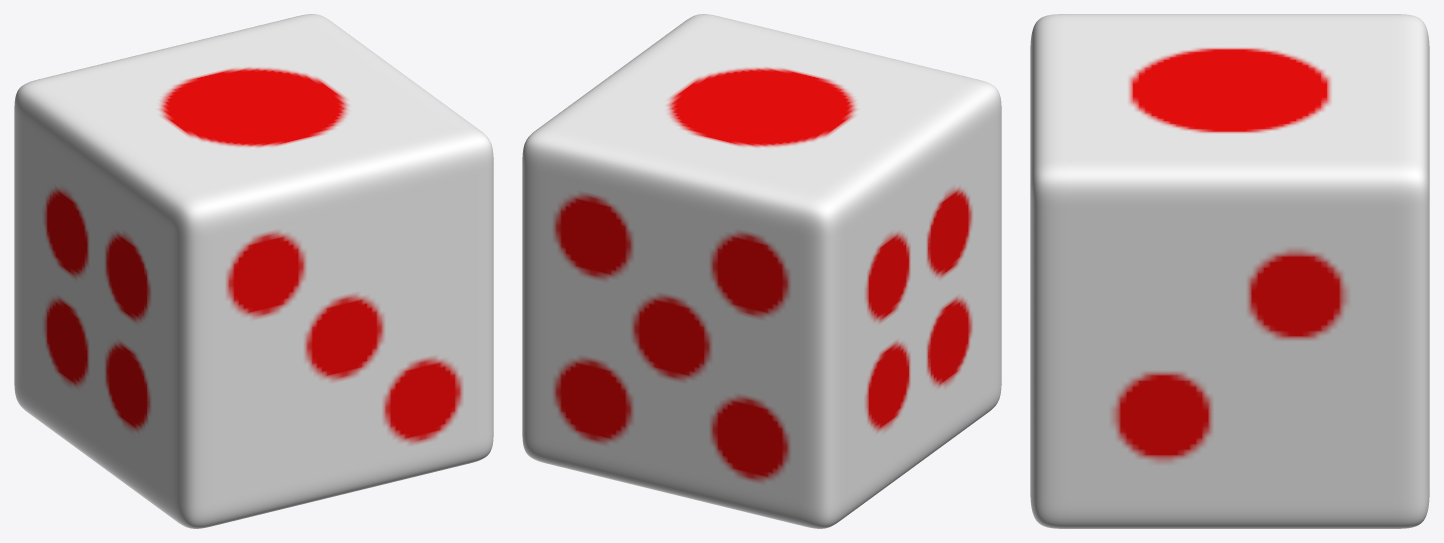
The model's file is dice.dae.
The picture shows the model from 3 angles, left to right: view 1: azimuth 30°, elevation 25°; view 2: azimuth 150°, elevation 25°; view 3: azimuth 270°, elevation 25°; orthographic projection. The views are drawn at different scales.
Visible parts, largest first — view 1: model; view 2: model; view 3: model.
Boxes of the visible parts, x1=… form: model: x1=14, y1=14, x2=493, y2=528; model: x1=522, y1=14, x2=1001, y2=528; model: x1=1030, y1=14, x2=1429, y2=528.
Size of the model in its own units: 100 by 100 by 100.
1 material, 1 textured.
